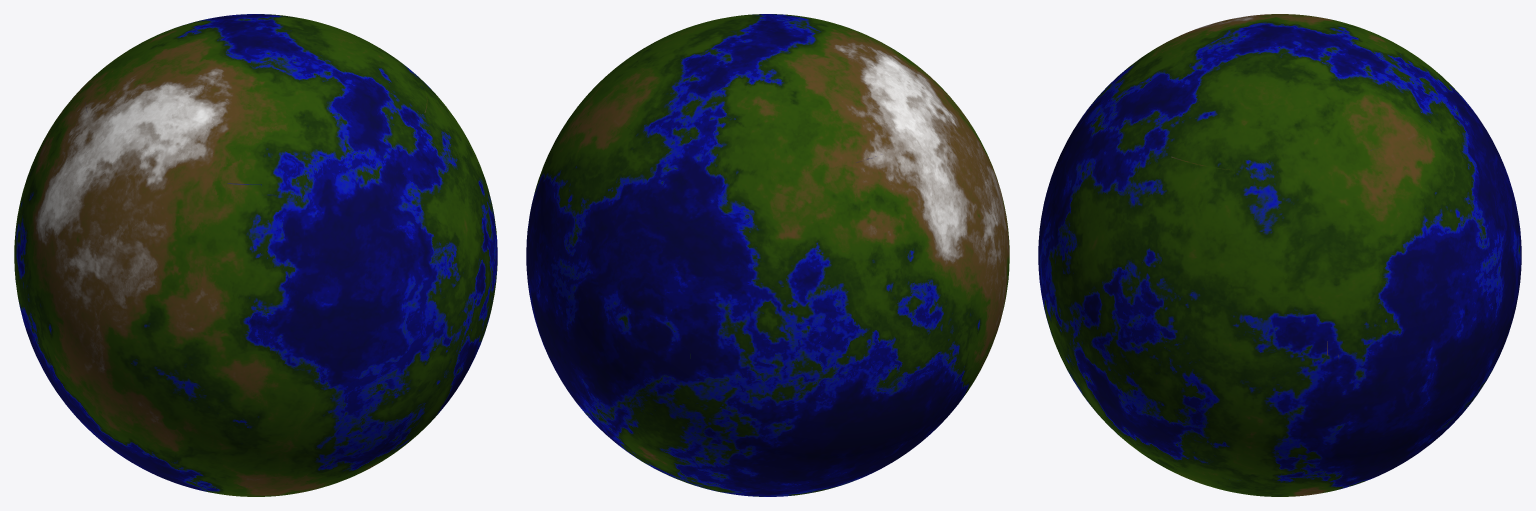
The model's file is planet.gltf.
The picture shows the model from 3 angles, left to right: view 1: azimuth 30°, elevation 25°; view 2: azimuth 150°, elevation 25°; view 3: azimuth 270°, elevation 25°; orthographic projection.
Visible parts, largest first — view 1: Planet; view 2: Planet; view 3: Planet.
Boxes of the visible parts, bbox=[...] form: Planet: bbox=[14, 14, 497, 496]; Planet: bbox=[526, 14, 1009, 496]; Planet: bbox=[1038, 14, 1521, 496].
Size of the model in its own units: 12742 by 12742 by 12742.
Materials: 1 (1 with a texture image).
